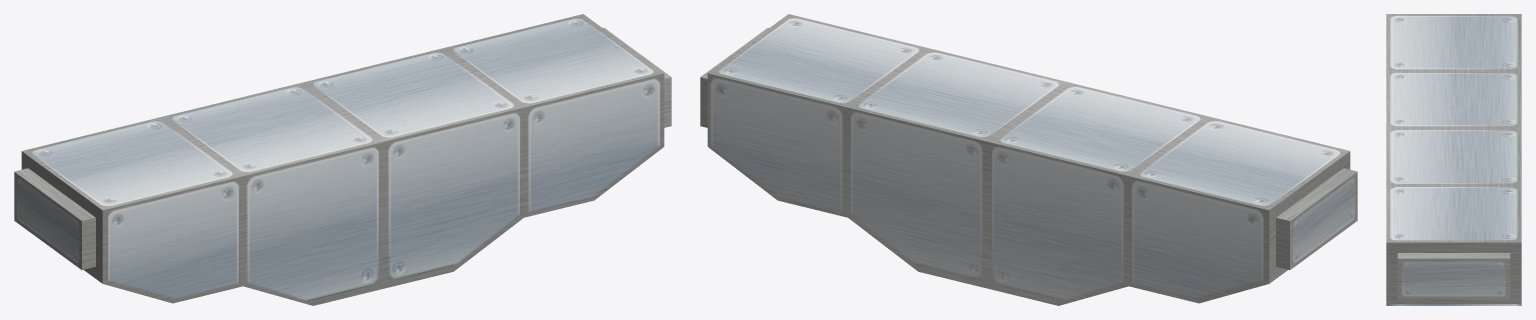
File: floatyPlatform1.FBX
3 views of the same model, side by side, from view 1: azimuth 30°, elevation 25°; view 2: azimuth 150°, elevation 25°; view 3: azimuth 270°, elevation 25° (orthographic). The views are drawn at different scales.
Visible parts, largest first — view 1: floatyplatform1; view 2: floatyplatform1; view 3: floatyplatform1.
Boxes of the visible parts, x1,y1,x2,y2 form: floatyplatform1: (14, 14, 671, 305); floatyplatform1: (700, 14, 1357, 305); floatyplatform1: (1386, 14, 1521, 305).
Bounding box in the file's own units: 165 × 39.37 × 39.37.
Materials: 1 (1 with a texture image).
